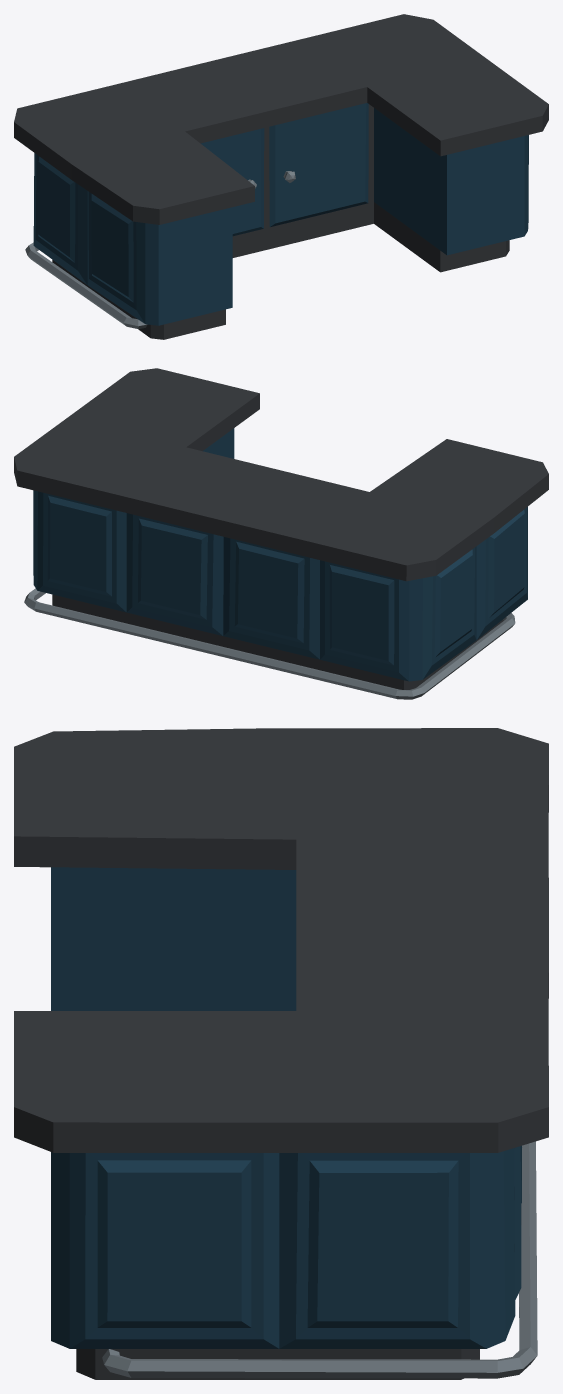
The model's file is SM_Prop_Bar_01.fbx.
The picture shows the model from 3 angles, top to bottom: view 1: azimuth 30°, elevation 25°; view 2: azimuth 150°, elevation 25°; view 3: azimuth 270°, elevation 25°; orthographic projection. The views are drawn at different scales.
Visible parts, largest first — view 1: SM_Prop_Bar_01; view 2: SM_Prop_Bar_01; view 3: SM_Prop_Bar_01.
Boxes of the visible parts, x1,y1,x2,y2 form: SM_Prop_Bar_01: (14, 14, 548, 339); SM_Prop_Bar_01: (14, 368, 548, 699); SM_Prop_Bar_01: (14, 728, 548, 1379).
Size of the model in its own units: 282 by 94.91 by 162.
